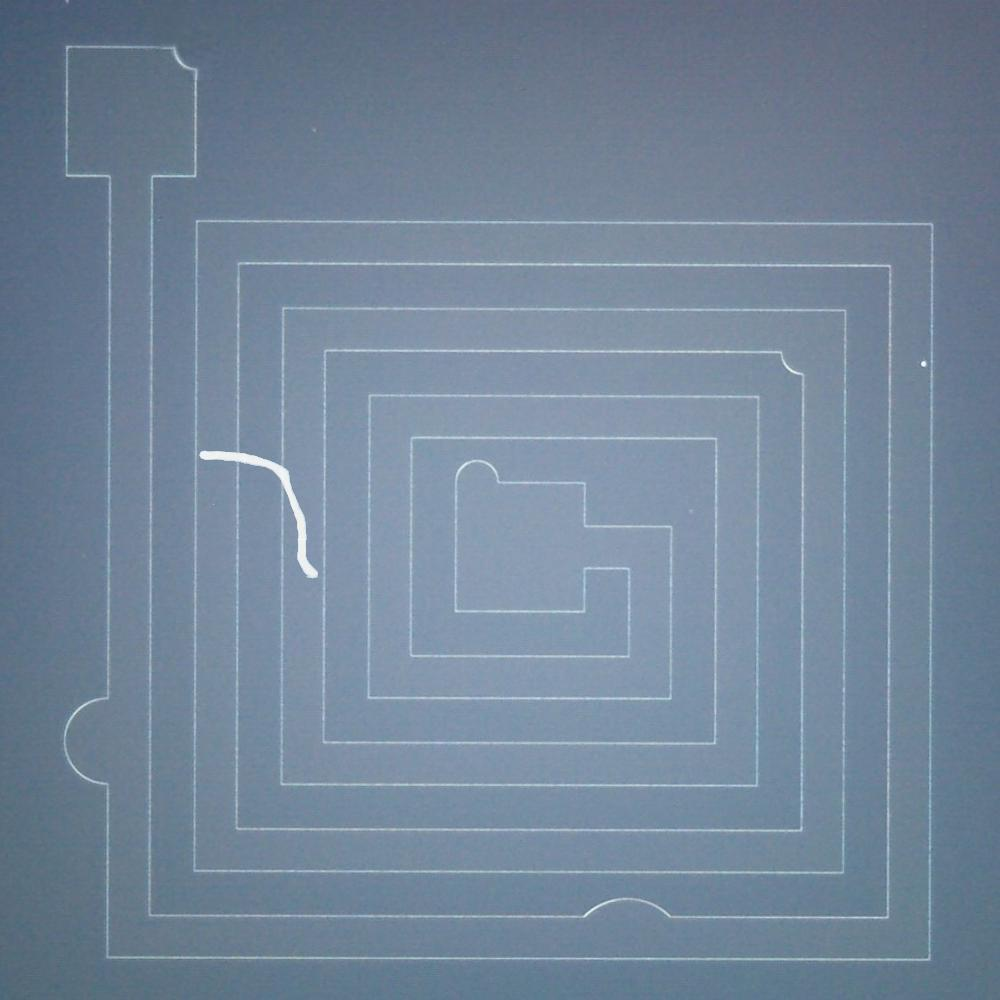curve circuit: (52, 686, 122, 797), (571, 887, 682, 926), (155, 36, 209, 83), (766, 339, 812, 386), (448, 453, 506, 490)
dot: (909, 351, 933, 376)
line: (189, 444, 327, 584)
